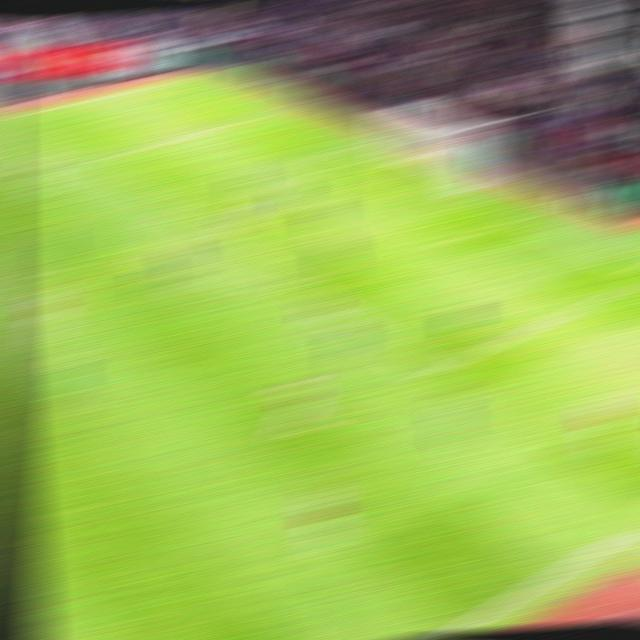bigarea_bottom_inner: (409, 362, 449, 384)
bigarea_top_inner: (75, 151, 109, 167)
bigarea_top_outter: (253, 106, 285, 117)
bottom_arc_area_intersection: (273, 277, 309, 293)
corner: (171, 72, 206, 82)
smallarea_bottom_inner: (431, 230, 470, 250)
smallarea_bottom_outter: (495, 208, 529, 222)
smallarea_top_inner: (273, 157, 307, 170)
smallarea_top_outter: (329, 138, 363, 152)
top_arc_area_intersection: (153, 202, 188, 215)
